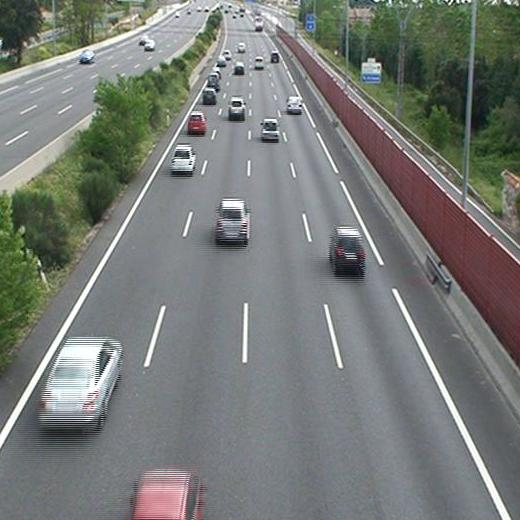car: (40, 338, 121, 424), (215, 200, 248, 241), (332, 228, 363, 269), (171, 145, 192, 170), (187, 113, 206, 133), (261, 119, 279, 139), (286, 96, 303, 114), (229, 98, 245, 116), (202, 89, 216, 103), (206, 74, 219, 87), (253, 56, 264, 68), (234, 63, 245, 74), (269, 52, 279, 62), (217, 56, 227, 66), (237, 43, 245, 53), (222, 50, 231, 58)
